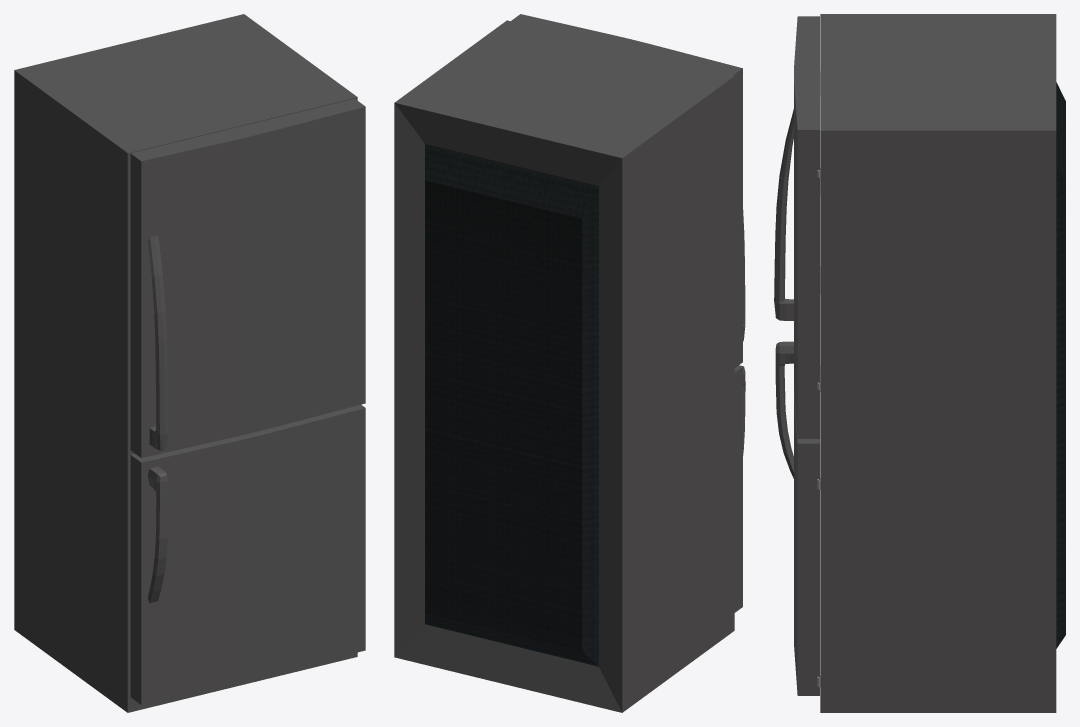
File: Fridge.fbx
The picture shows the model from 3 angles, left to right: view 1: azimuth 30°, elevation 25°; view 2: azimuth 150°, elevation 25°; view 3: azimuth 270°, elevation 25°; orthographic projection. The views are drawn at different scales.
Parts seen in each view (by area): view 1: Fridge, Door.006, Door.008; view 2: Fridge, Door.006, Door.008; view 3: Fridge, Door.006, Door.008.
Boxes of the visible parts, x1,y1,x2,y2 form: Fridge: [14, 14, 357, 712]; Door.006: [130, 98, 365, 457]; Door.008: [130, 405, 365, 704]; Fridge: [394, 20, 734, 712]; Door.006: [511, 14, 745, 367]; Door.008: [734, 365, 745, 612]; Fridge: [820, 14, 1065, 712]; Door.006: [774, 16, 820, 438]; Door.008: [775, 341, 820, 695].
Bounding box in the file's own units: 75.97 × 179 × 80.27.
